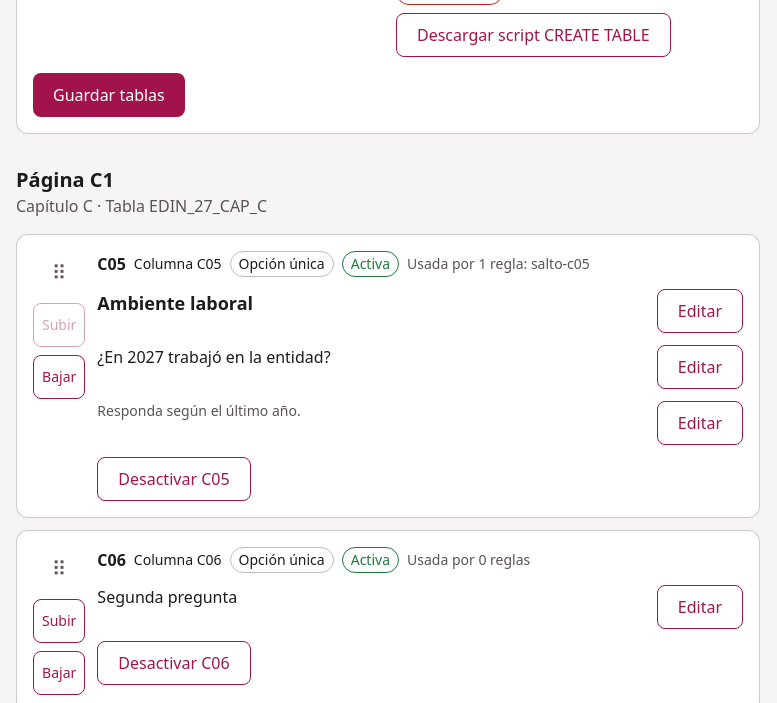
Test: QuestionEditor › showsFieldErrorAndCancelKeepsText
This screenshot has width=777, height=703.
(page scrolled)
Click the button with aria-label "Editar texto de C05" at (700, 367), box [657,345,743,389]
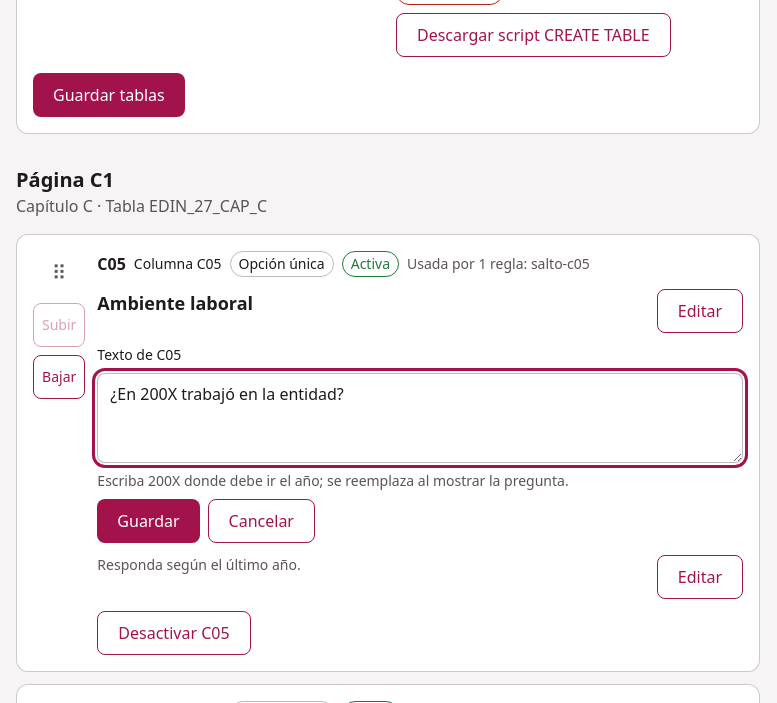
Type " más" into the text box labelled "Texto de C05" at (420, 418), box [97,373,743,463]
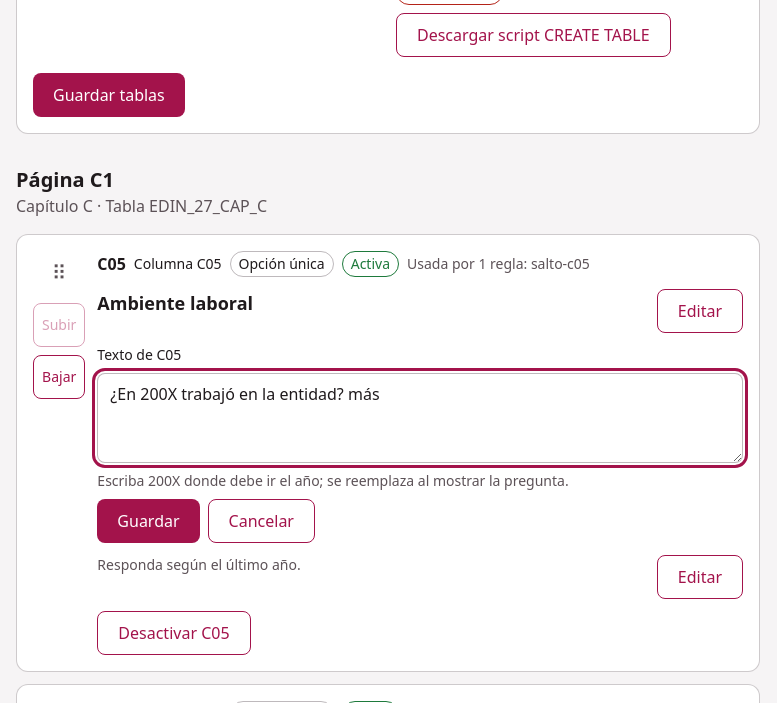
Click the button "Guardar" at (148, 521), box [97,499,200,543]
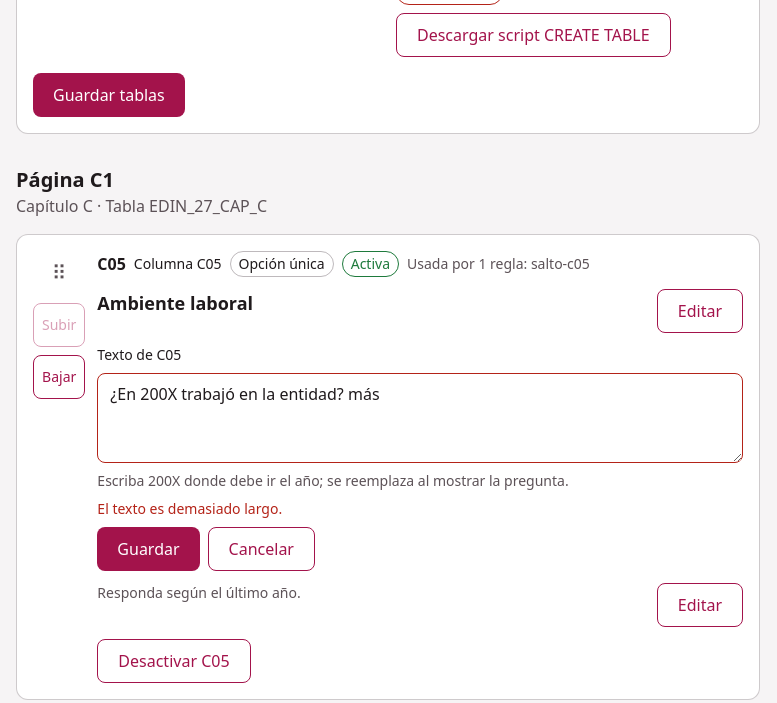
Expected: the text "El texto es demasiado largo." is shown, [97,499,282,518]
Click the button "Cancelar" at (261, 549), box [208,527,315,571]
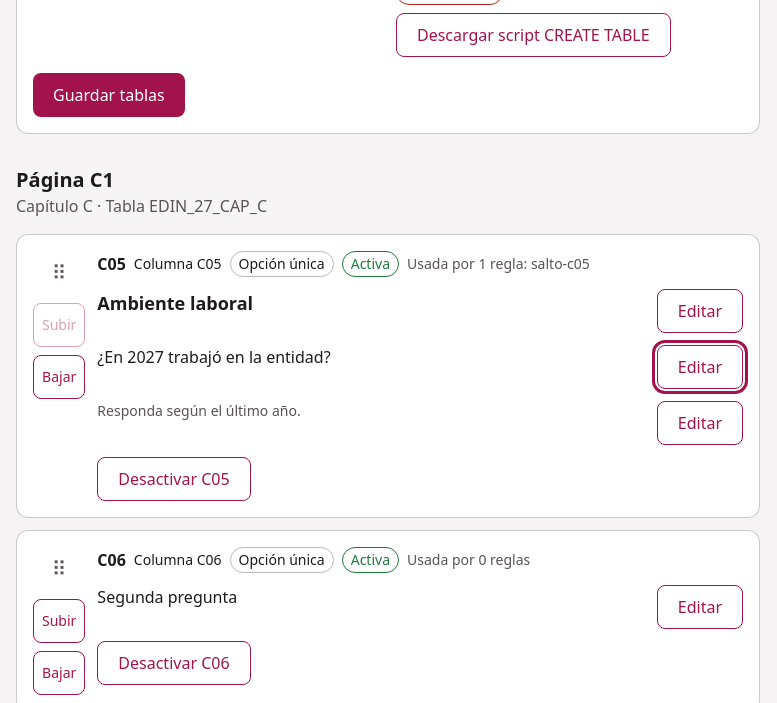
Expected: the text "¿En 2027 trabajó en la entidad?" is shown, [97,346,330,368]
Expected: the label labelled "Texto de C05" is gone
